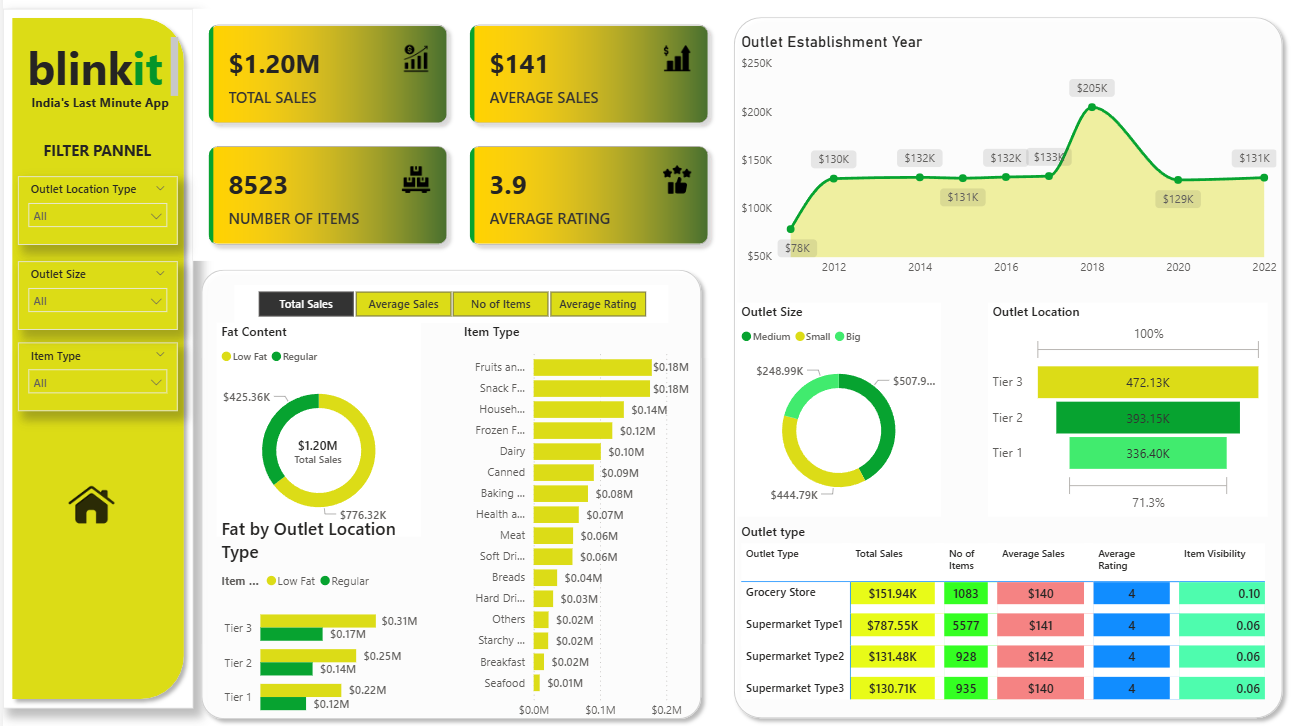

This screenshot's page, from the dashboard's own definition file:
{"tool":"powerbi","page":{"name":"Page 1","canvas":[1400,800],"ordinal":0},"visuals":[{"type":"shape","box":[0,25.5,204.1,750.4],"z":0},{"type":"textbox","box":[21,51,171.1,73.5],"z":1000},{"type":"textbox","box":[25.5,111.1,162.1,63],"z":2000},{"type":"cardVisual","fields":{"Data":["BlinkIT Grocery Data.Total Sales","BlinkIT Grocery Data.Average Sales","BlinkIT Grocery Data.No of Items","BlinkIT Grocery Data.Average Rating"]},"box":[204.1,25.5,570.3,270.2],"z":3000},{"type":"shape","box":[204,296,554,500],"z":4000},{"type":"donutChart","title":"Fat Content","fields":{"Y":["BlinkIT Grocery Data.Total Sales"],"Category":["BlinkIT Grocery Data.Item Fat Content"]},"box":[229.6,361.7,219.1,229.6],"z":5000},{"type":"slicer","fields":{"Values":["Metrics.Metrics"]},"box":[247.6,321.2,465.3,40.5],"z":6000},{"type":"cardVisual","fields":{"Data":["BlinkIT Grocery Data.Total Sales"]},"box":[292.7,466.8,91.6,66],"z":7000},{"type":"clusteredBarChart","title":"Fat by Outlet Location Type","fields":{"Y":["BlinkIT Grocery Data.Total Sales"],"Category":["BlinkIT Grocery Data.Outlet Location Type"],"Series":["BlinkIT Grocery Data.Item Fat Content"]},"box":[229.6,570.3,220.6,229.6],"z":8000},{"type":"barChart","title":"Item Type","fields":{"Y":["BlinkIT Grocery Data.Total Sales"],"Category":["BlinkIT Grocery Data.Item Type"]},"box":[489.3,361.7,268.7,433.7],"z":9000},{"type":"shape","box":[774.4,25.5,606.3,769.9],"z":10000},{"type":"lineChart","title":"Outlet Establishment Year","fields":{"Y":["BlinkIT Grocery Data.Total Sales"],"Category":["BlinkIT Grocery Data.Outlet Establishment Year"]},"box":[786.5,51,583.8,270.2],"z":11000},{"type":"donutChart","title":"Outlet Size","fields":{"Y":["BlinkIT Grocery Data.Total Sales"],"Category":["BlinkIT Grocery Data.Outlet Size"]},"box":[786.5,340.7,219.1,229.6],"z":12000},{"type":"funnel","title":"Outlet Location ","fields":{"Y":["Sum(BlinkIT Grocery Data.Sales)"],"Category":["BlinkIT Grocery Data.Outlet Location Type"]},"box":[1056.6,340.7,300.2,229.6],"z":13000},{"type":"pivotTable","title":"Outlet type","fields":{"Rows":["BlinkIT Grocery Data.Outlet Type"],"Values":["BlinkIT Grocery Data.Total Sales","BlinkIT Grocery Data.No of Items","BlinkIT Grocery Data.Average Sales","BlinkIT Grocery Data.Average Rating","Avg(BlinkIT Grocery Data.Item Visibility)"]},"box":[786.5,576.3,595.8,219.1],"z":14000},{"type":"slicer","fields":{"Values":["BlinkIT Grocery Data.Outlet Location Type"]},"box":[16.5,205.6,171.1,73.5],"z":15000},{"type":"slicer","fields":{"Values":["BlinkIT Grocery Data.Outlet Size"]},"box":[16.5,295.7,171.1,73.5],"z":16000},{"type":"slicer","fields":{"Values":["BlinkIT Grocery Data.Item Type"]},"box":[16.5,382.7,171.1,73.5],"z":17000},{"type":"textbox","box":[15,160.6,172.6,42],"z":18000},{"type":"image","box":[58.5,522.3,72,64.5],"z":18001}]}

Visuals, with their boxes in screenshot pixels (x1, y1, x2, y2), scaled from the page's 1400x800 canvas onto the 1307x726 screenshot:
shape: x1=0, y1=23, x2=191, y2=704
textbox: x1=20, y1=46, x2=179, y2=113
textbox: x1=24, y1=101, x2=175, y2=158
cardVisual - BlinkIT Grocery Data.Total Sales x BlinkIT Grocery Data.Average Sales: x1=191, y1=23, x2=723, y2=268
shape: x1=190, y1=269, x2=708, y2=722
"Fat Content" donutChart: x1=214, y1=328, x2=419, y2=537
slicer - Metrics.Metrics: x1=231, y1=291, x2=666, y2=328
cardVisual - BlinkIT Grocery Data.Total Sales: x1=273, y1=424, x2=359, y2=484
"Fat by Outlet Location Type" clusteredBarChart: x1=214, y1=518, x2=420, y2=725
"Item Type" barChart: x1=457, y1=328, x2=708, y2=722
shape: x1=723, y1=23, x2=1289, y2=722
"Outlet Establishment Year" lineChart: x1=734, y1=46, x2=1279, y2=291
"Outlet Size" donutChart: x1=734, y1=309, x2=939, y2=518
"Outlet Location " funnel: x1=986, y1=309, x2=1267, y2=518
"Outlet type" pivotTable: x1=734, y1=523, x2=1290, y2=722
slicer - BlinkIT Grocery Data.Outlet Location Type: x1=15, y1=187, x2=175, y2=253
slicer - BlinkIT Grocery Data.Outlet Size: x1=15, y1=268, x2=175, y2=335
slicer - BlinkIT Grocery Data.Item Type: x1=15, y1=347, x2=175, y2=414
textbox: x1=14, y1=146, x2=175, y2=184
image: x1=55, y1=474, x2=122, y2=533
